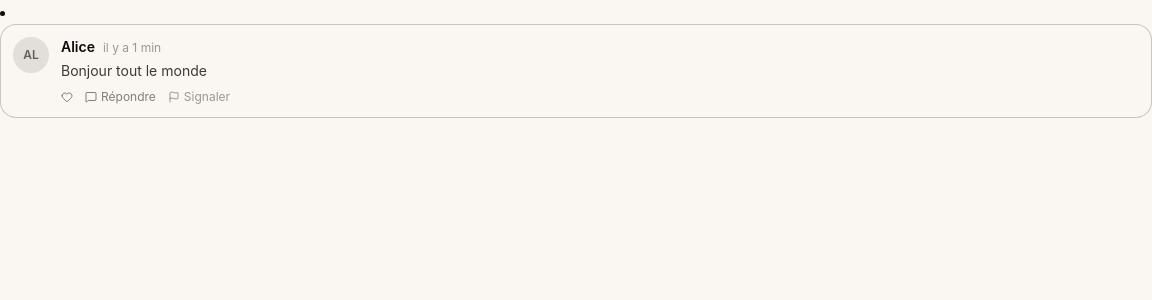
CommentItem › clicking Répondre pre-fills the form with @parentAuthorUsername + space
Click the button "Répondre". click: (120,97)
box: [85,89,156,105]
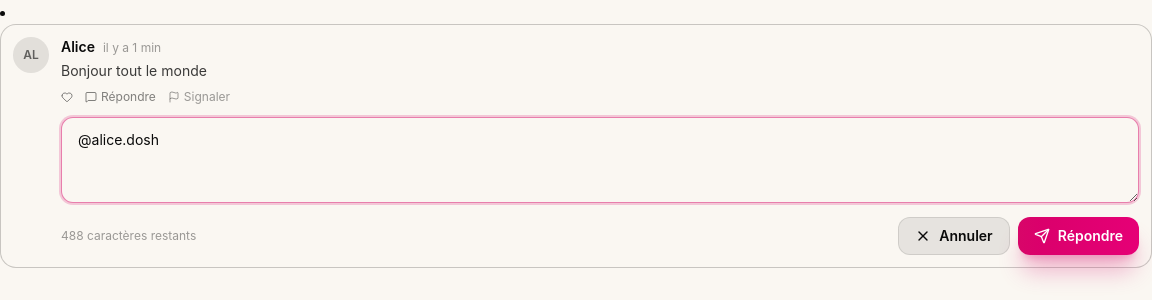
Expected: the text box named "Contenu du commentaire" holds "@alice.dosh ", [61,117,1139,203]
